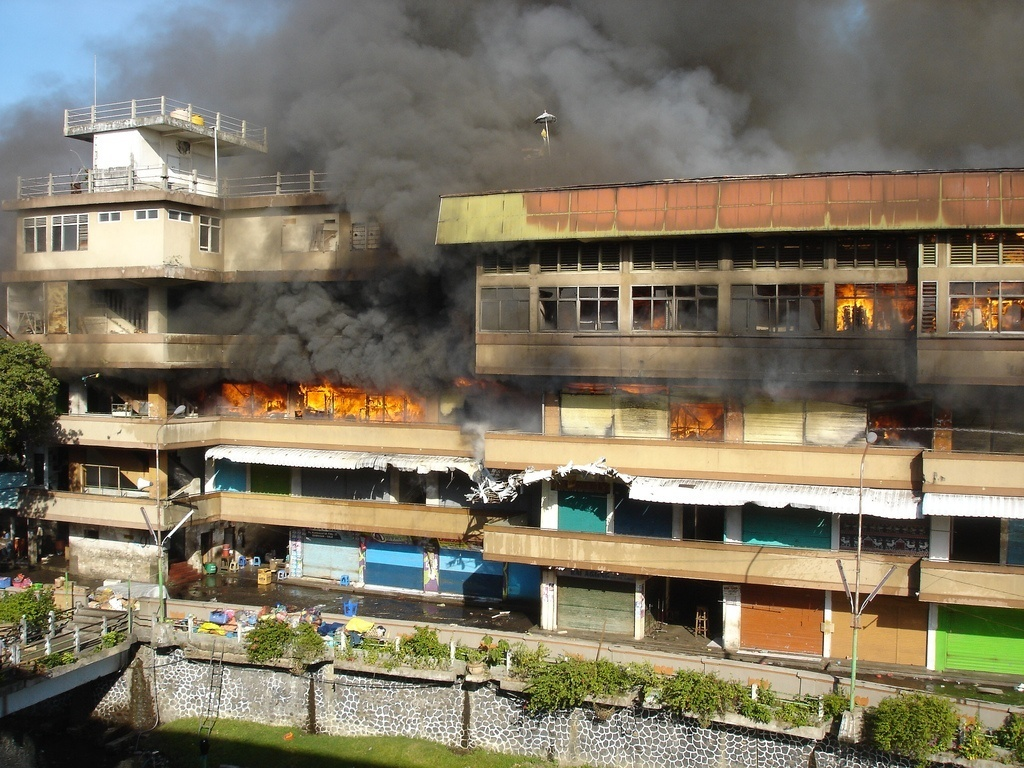fire: (217, 374, 418, 419), (833, 273, 916, 329), (949, 288, 1020, 331), (663, 396, 729, 439), (831, 281, 882, 327), (868, 407, 927, 446)
